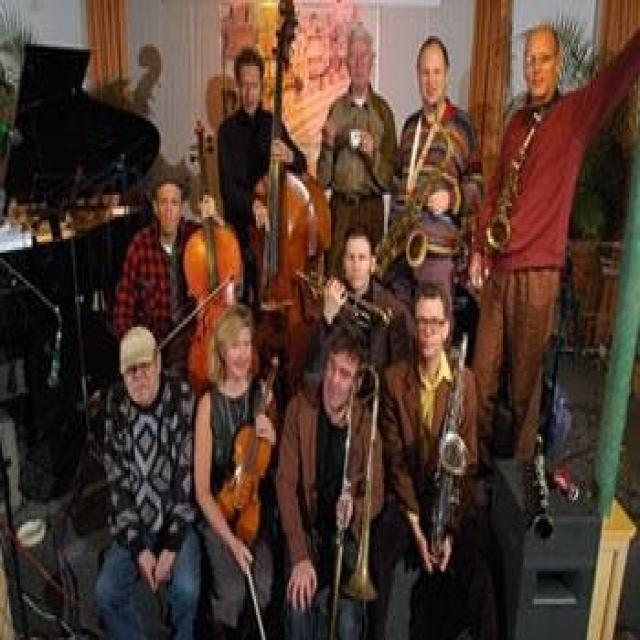cello: (184, 115, 242, 391)
saxophone: (370, 103, 450, 276), (471, 113, 542, 285), (428, 331, 472, 569)
violin: (213, 356, 281, 555)
